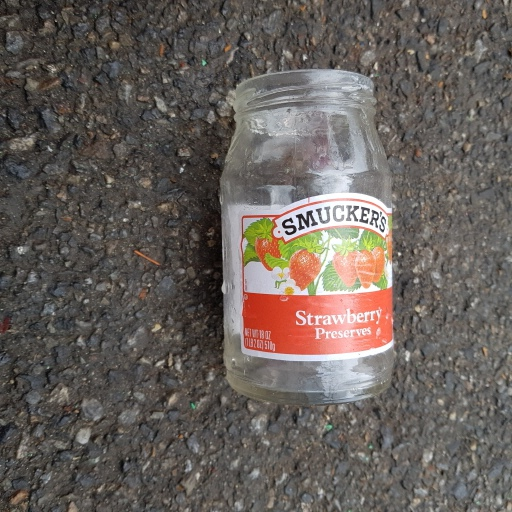Glass_5: (212, 69, 408, 405)
